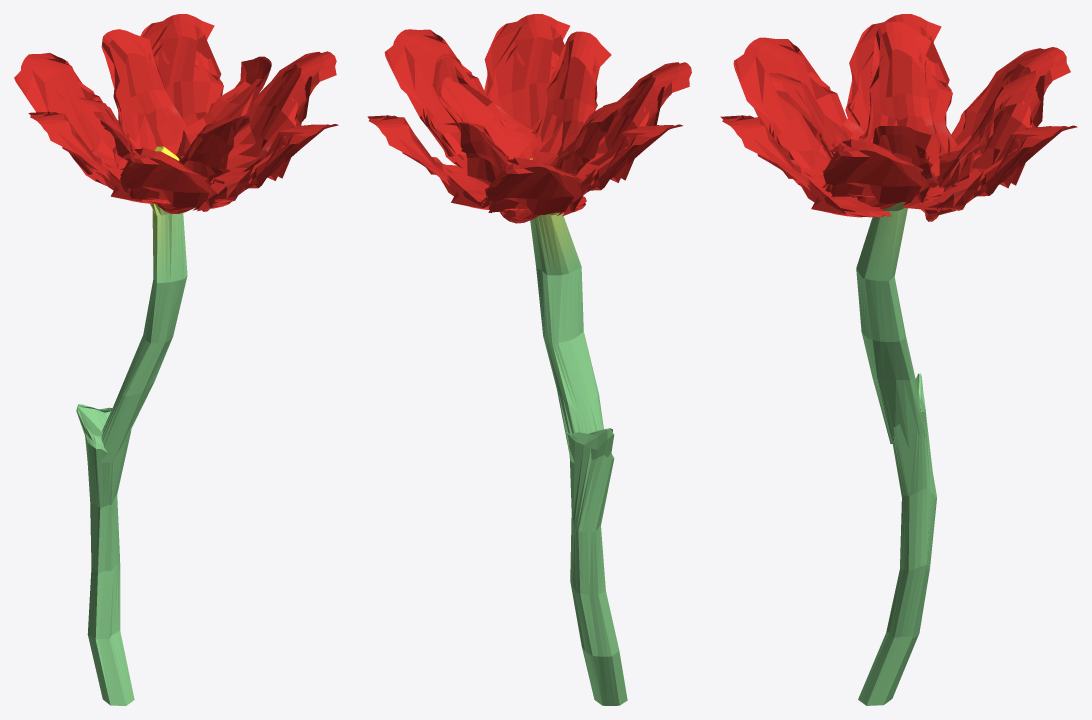
Rendered from flower1_3.glb.
3 renders of one model, left to right at view 1: azimuth 30°, elevation 25°; view 2: azimuth 150°, elevation 25°; view 3: azimuth 270°, elevation 25°, orthographic. The views are drawn at different scales.
Parts seen in each view (by area): view 1: Mesh_Mesh_head_geo.001_lambert2SG.002, Cube.003, Cube.004, Cube.009, Cube.008, Cube.006, Cube.005, Cube.001, Cube.007, Cube.002, Cube; view 2: Mesh_Mesh_head_geo.001_lambert2SG.002, Cube.005, Cube.002, Cube.004, Cube.008, Cube.001, Cube.006, Cube.009, Cube.007, Cube, Cube.003; view 3: Mesh_Mesh_head_geo.001_lambert2SG.002, Cube.006, Cube, Cube.008, Cube.004, Cube.007, Cube.009, Cube.005, Cube.003, Cube.002, Cube.001.
Part boxes in pixels (box(x1,y1,x2,y2)): Mesh_Mesh_head_geo.001_lambert2SG.002: box(76, 146, 187, 705); Cube.003: box(101, 29, 186, 169); Cube.004: box(214, 51, 336, 183); Cube.009: box(140, 14, 223, 126); Cube.008: box(14, 52, 118, 185); Cube.006: box(120, 147, 231, 213); Cube.005: box(202, 124, 338, 211); Cube.001: box(176, 56, 271, 189); Cube.007: box(28, 111, 170, 203); Cube.002: box(179, 115, 249, 183); Cube: box(77, 97, 135, 161); Mesh_Mesh_head_geo.001_lambert2SG.002: box(530, 158, 627, 705); Cube.005: box(484, 14, 569, 130); Cube.002: box(532, 31, 611, 178); Cube.004: box(384, 29, 533, 170); Cube.008: box(480, 157, 586, 223); Cube.001: box(432, 54, 538, 160); Cube.006: box(580, 62, 691, 182); Cube.009: box(367, 115, 523, 210); Cube.007: box(579, 124, 682, 194); Cube: box(550, 97, 635, 175); Cube.003: box(444, 122, 508, 186); Mesh_Mesh_head_geo.001_lambert2SG.002: box(856, 202, 936, 705); Cube.006: box(733, 37, 864, 185); Cube: box(857, 21, 939, 176); Cube.008: box(951, 47, 1070, 169); Cube.004: box(821, 139, 945, 209); Cube.007: box(845, 14, 957, 155); Cube.009: box(902, 125, 1077, 221); Cube.005: box(720, 115, 891, 217); Cube.003: box(935, 70, 1035, 191); Cube.002: box(769, 73, 851, 161); Cube.001: box(872, 125, 938, 186).
Size of the model in its own units: 57.38 by 117 by 57.36.
